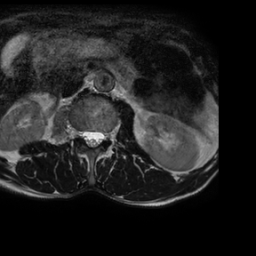CCS_normal: (88, 122, 95, 155)
LFS_normal: (104, 124, 111, 146)
LLS_normal: (96, 123, 104, 149)
RFS_normal: (74, 121, 81, 143)
RLS_normal: (81, 123, 88, 146)
